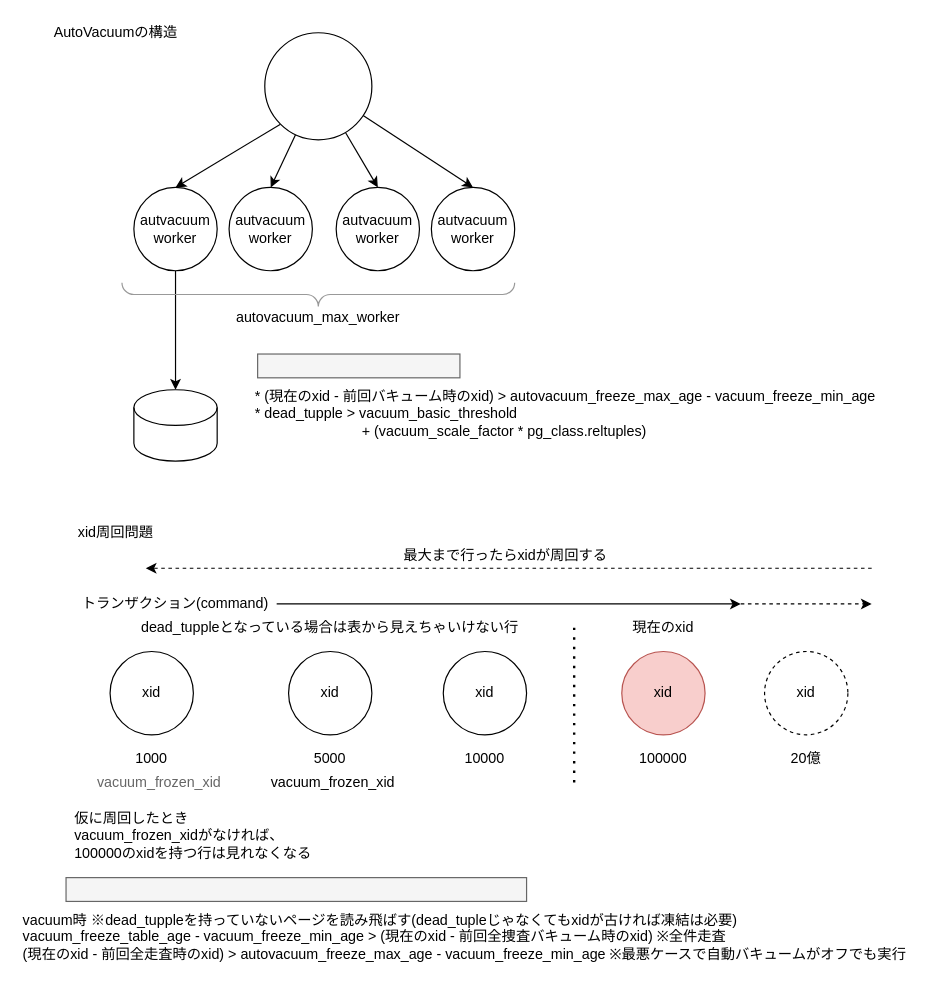
Image size: 945x983. Some labels were removed from this diagram. The centre of each missing label's shape, as x and y in pixels:
"auto vacuum実行タイミング" belongs at [358,365].
"Daemon" belongs at [318,86].
"table" belongs at [175,425].
"vacuum_frozen_xidが払い出されるようなVacuumが起こるタイミング" belongs at [296,888].
